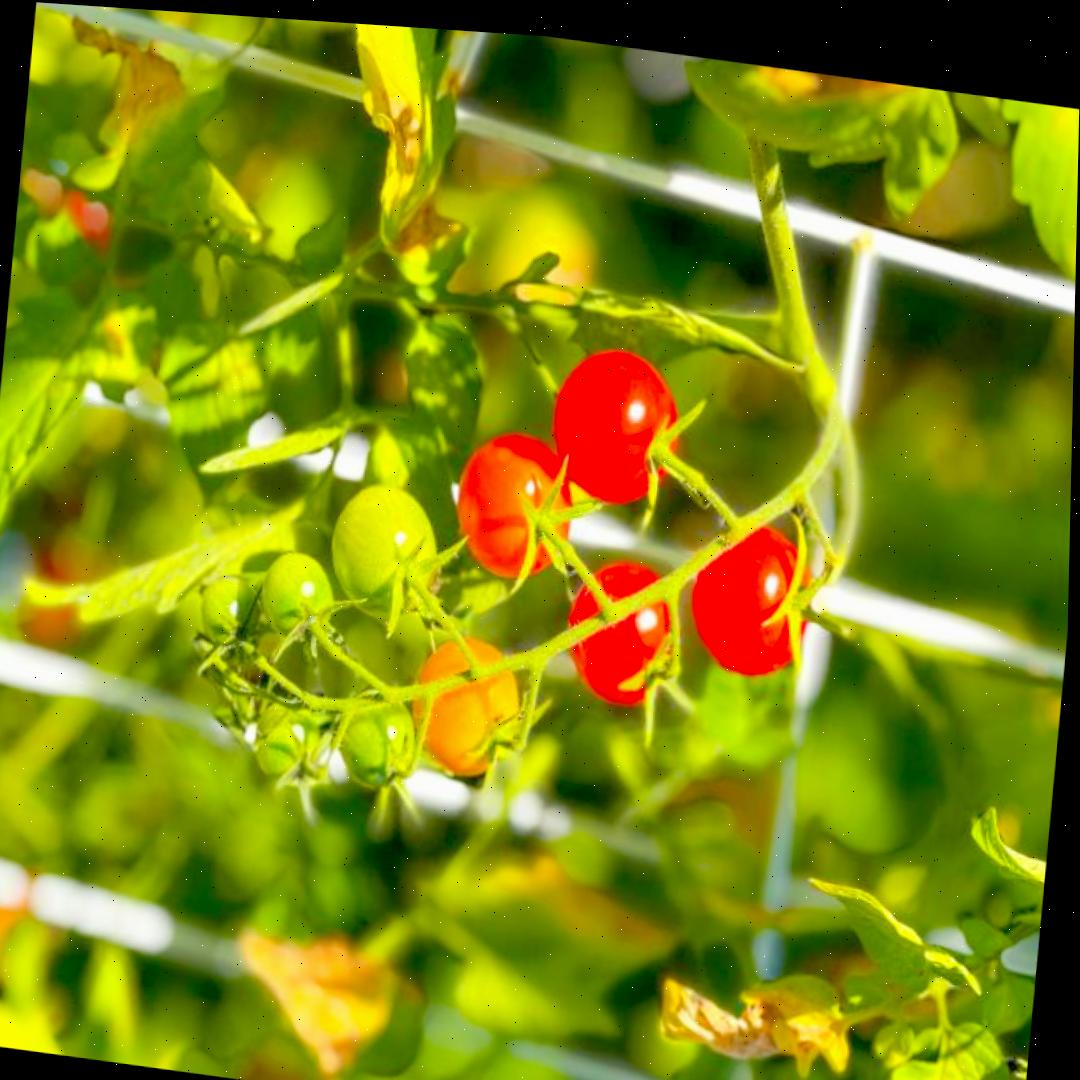matang: (549, 341, 685, 512), (688, 513, 819, 684), (451, 423, 577, 589), (560, 556, 679, 715)
mentah: (326, 477, 444, 627), (335, 677, 423, 794), (258, 546, 336, 644)
setengah_matang: (403, 629, 525, 784)
